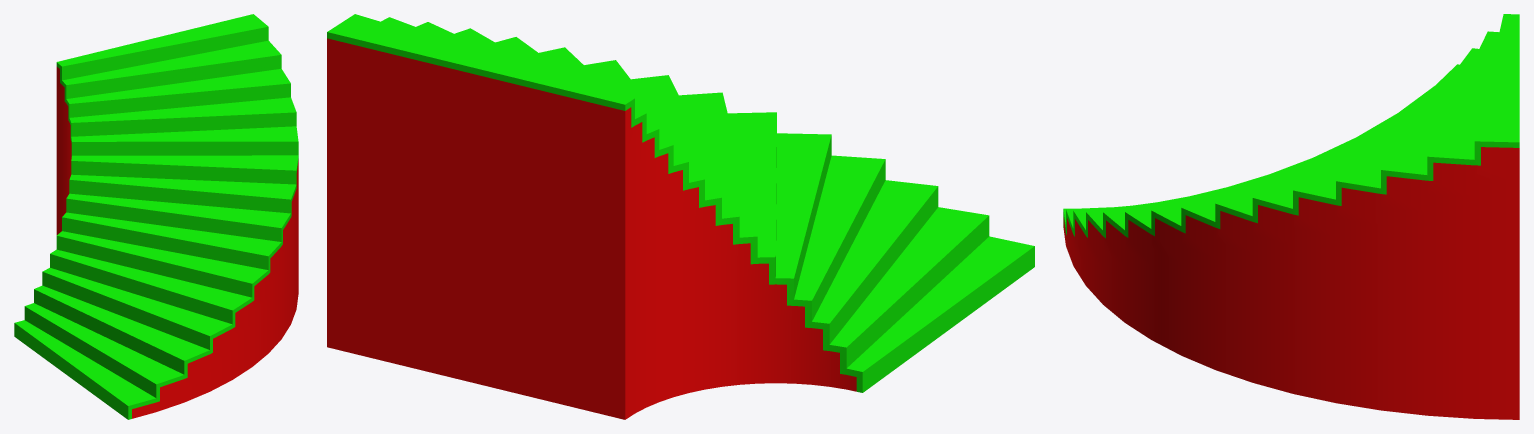
File: Dungeon_Stair007Alt.fbx
3 views of the same model, side by side, from view 1: azimuth 30°, elevation 25°; view 2: azimuth 150°, elevation 25°; view 3: azimuth 270°, elevation 25° (orthographic). The views are drawn at different scales.
Visible parts, largest first — view 1: StairRight_Rise; view 2: StairRight_Rise; view 3: StairRight_Rise.
Boxes of the visible parts, x1,y1,x2,y2 form: StairRight_Rise: (14, 14, 298, 419); StairRight_Rise: (327, 14, 1034, 419); StairRight_Rise: (1063, 14, 1519, 419).
Bounding box in the file's own units: 372 × 250 × 372.
